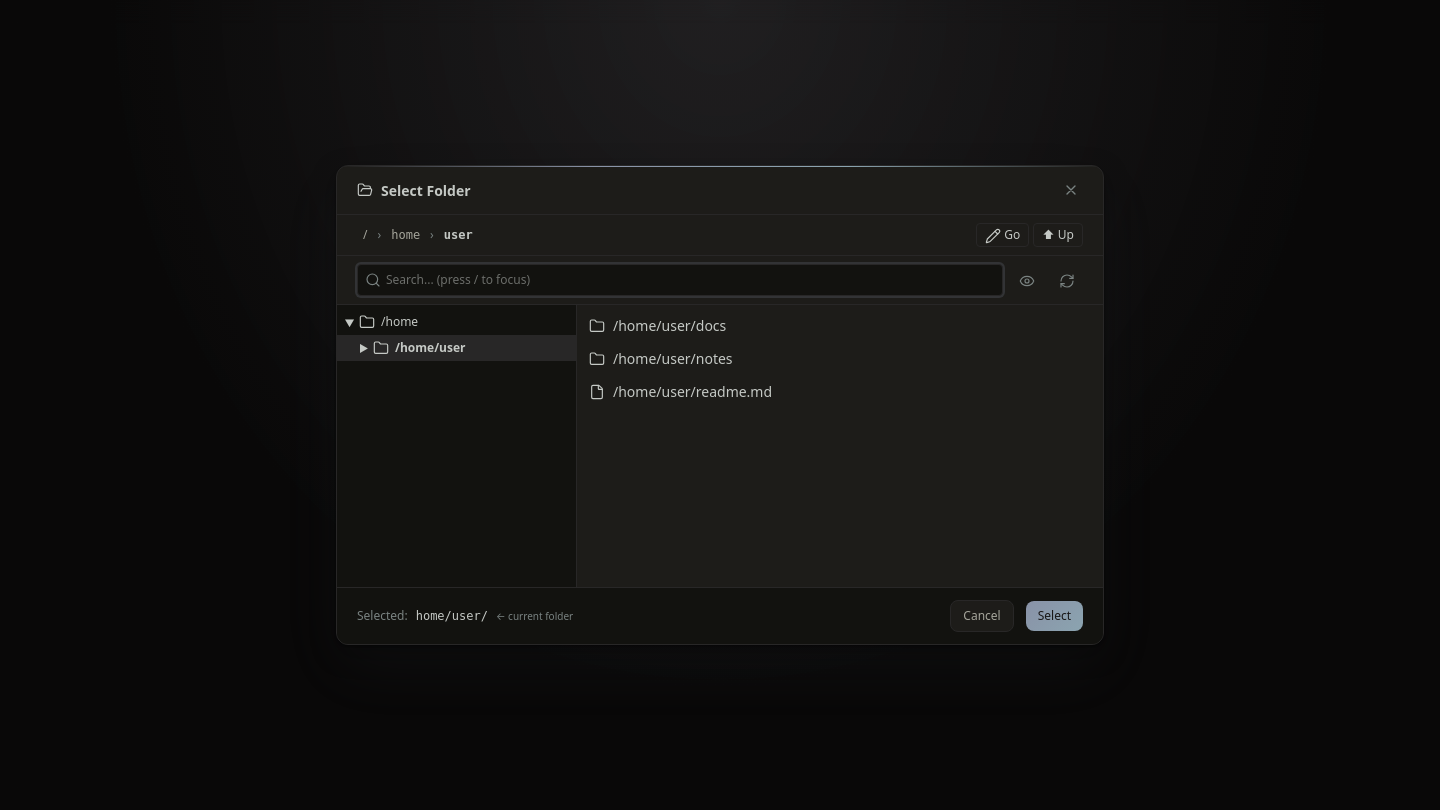
Test: FilePickerDialog — Select when current folder is open (folder mode) › explicit click on a folder OVERRIDES the fallback in the footer
Click the button with test id "file-picker-item-/home/user/docs". click: (670, 326)
box: left=577, top=309, right=1103, bottom=342
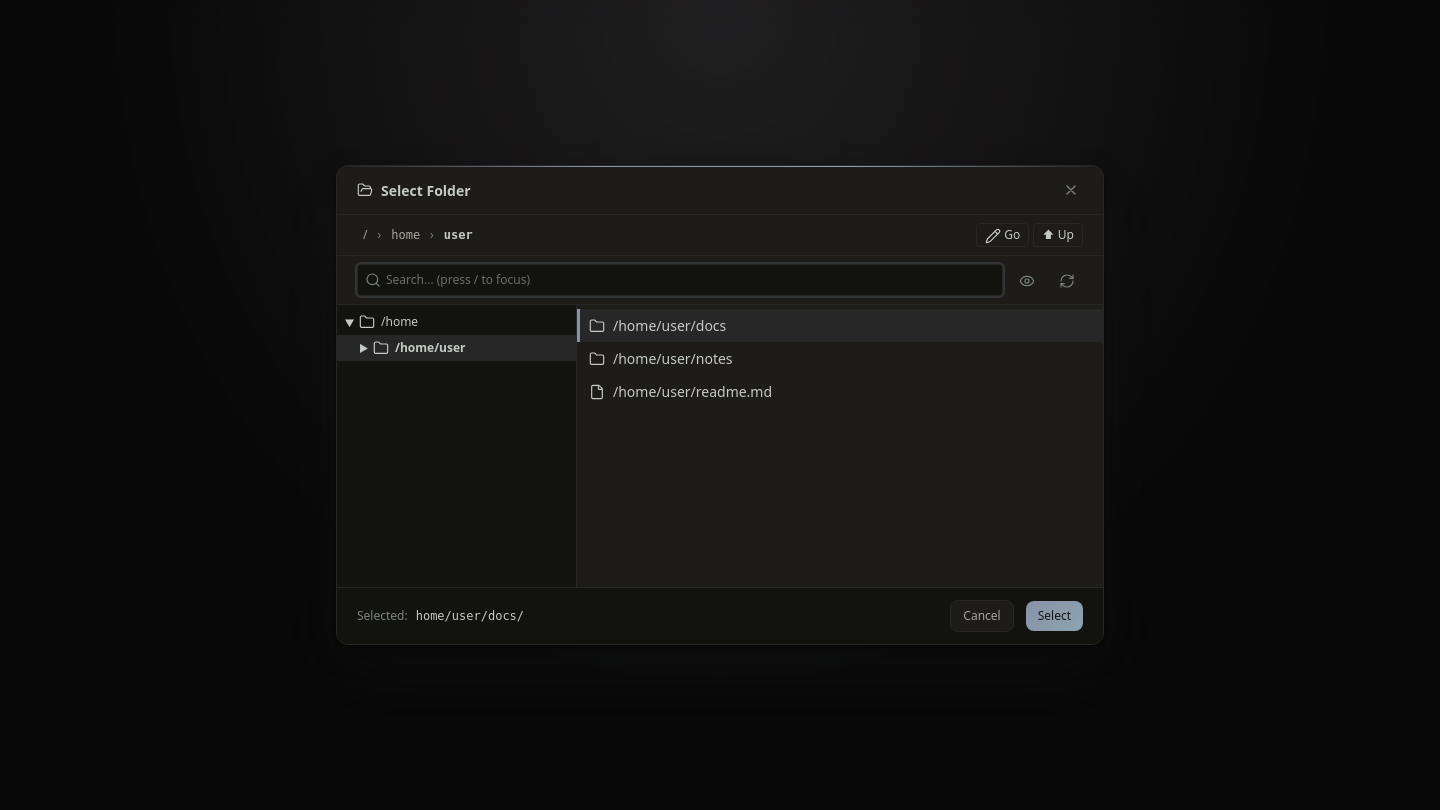
Now the text with test id "file-picker-selected-path" reads "/home/user/docs", box left=416, top=609, right=524, bottom=623
Now the text with test id "file-picker-selected-hint" is gone
